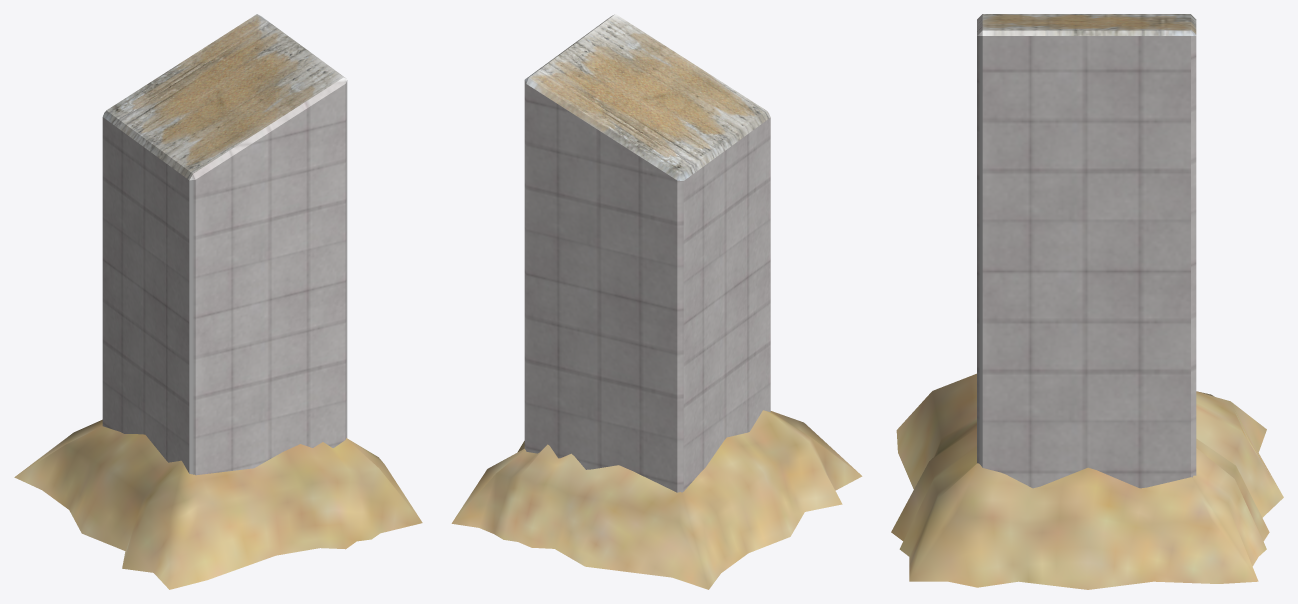
File: TDHus6.fbx
3 views of the same model, side by side, from view 1: azimuth 30°, elevation 25°; view 2: azimuth 150°, elevation 25°; view 3: azimuth 270°, elevation 25° (orthographic). The views are drawn at different scales.
Parts seen in each view (by area): view 1: TDHus_VI; view 2: TDHus_VI; view 3: TDHus_VI.
Part boxes in pixels (<box>): TDHus_VI: <box>14,14,422,589</box>; TDHus_VI: <box>451,14,862,589</box>; TDHus_VI: <box>891,14,1283,589</box>.
Bounding box in the file's own units: 44.46 × 64.52 × 43.97.
